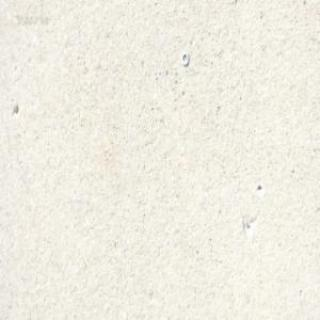Washertrack_idkeyframe: (180, 50, 188, 65)
